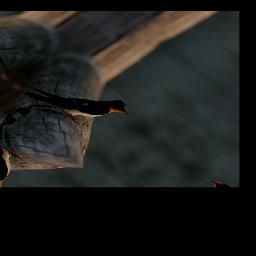Swallow: (13, 52, 139, 144)
